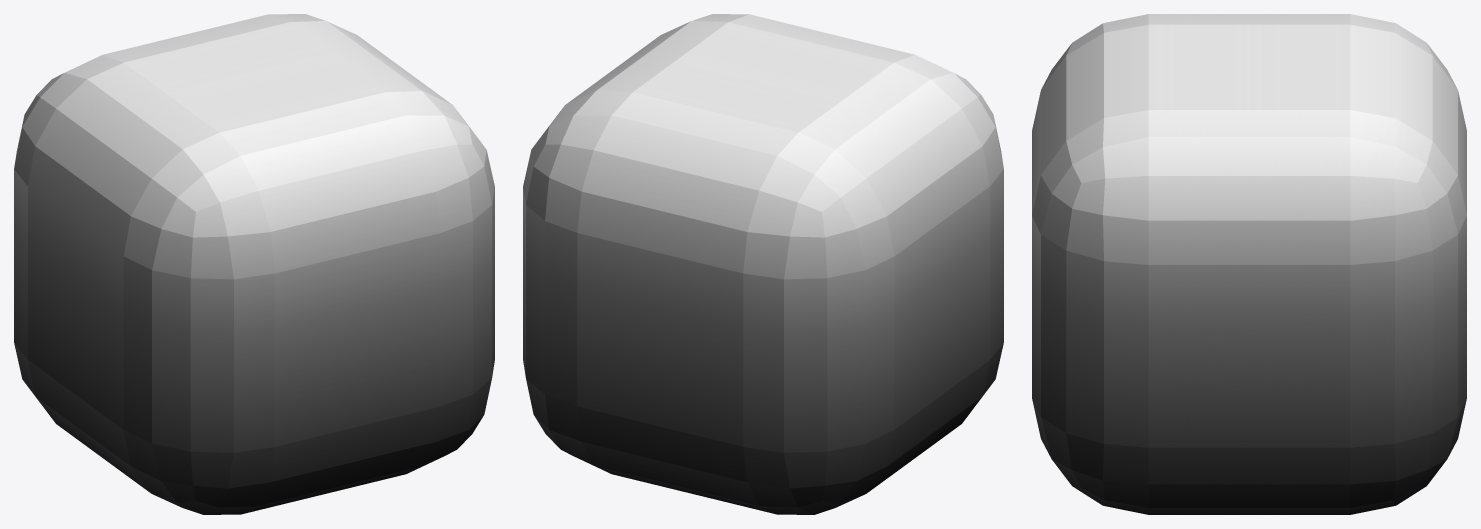
Rendered from boxy.glb.
The picture shows the model from 3 angles, left to right: view 1: azimuth 30°, elevation 25°; view 2: azimuth 150°, elevation 25°; view 3: azimuth 270°, elevation 25°; orthographic projection. The views are drawn at different scales.
Visible parts, largest first — view 1: Cube; view 2: Cube; view 3: Cube.
Boxes of the visible parts, <box> form: Cube: <box>14,14,494,514</box>; Cube: <box>523,14,1003,514</box>; Cube: <box>1032,14,1466,514</box>.
Size of the model in its own units: 1 by 1 by 1.
1 material, 1 textured.
